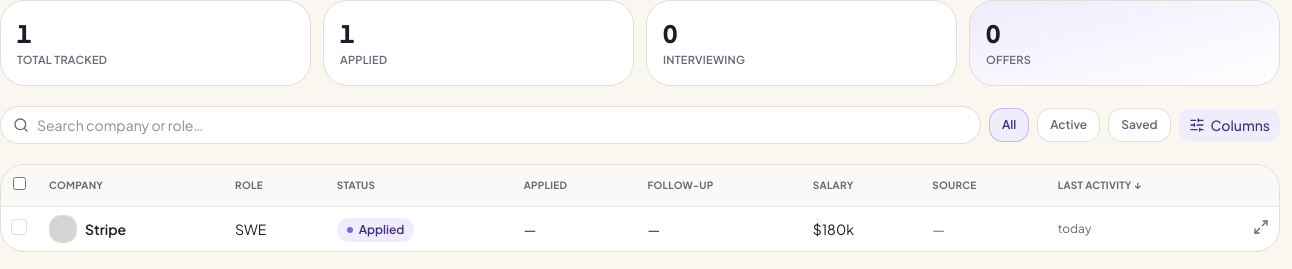
Test: preserves the seed character when typing to start an edit (does not clobber it)
Click the text "$180k": (833, 229) [813,220,854,238]
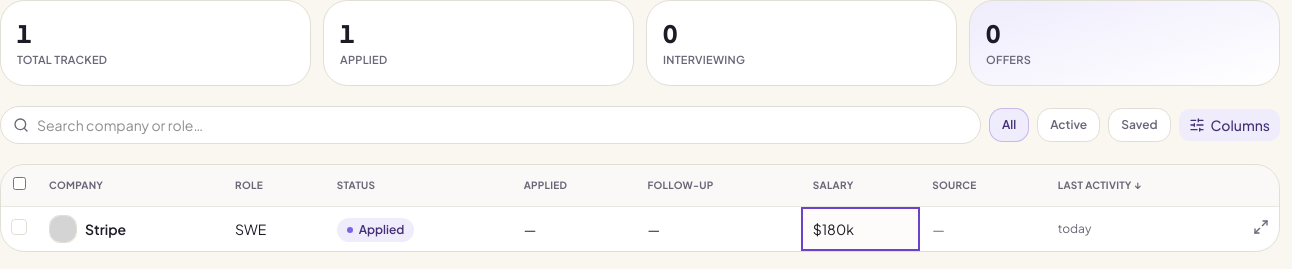
Press X in the text "$180k", box [1,165,1279,251]
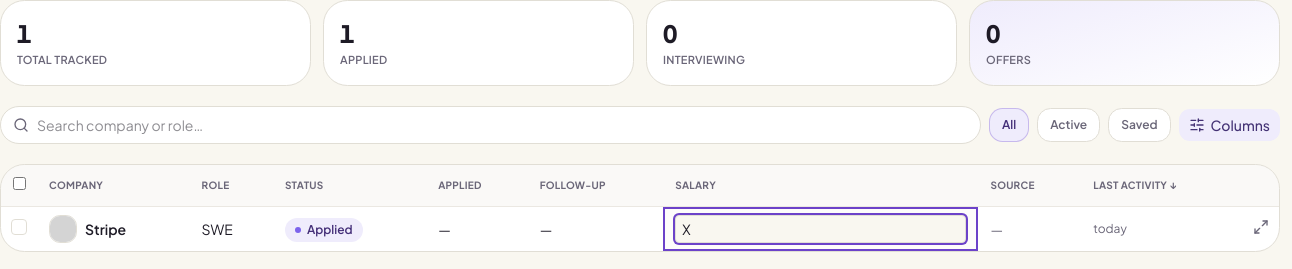
Expected: the 2nd field holds "X"
Replace the text in the 2nd field with "XY": (821, 229) [675,215,966,243]
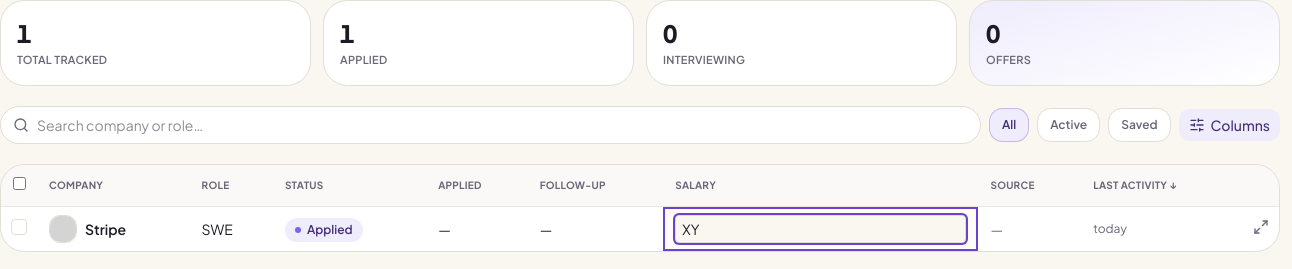
Replace the text in the 2nd field with "XYZ": (821, 229) [675,215,966,243]
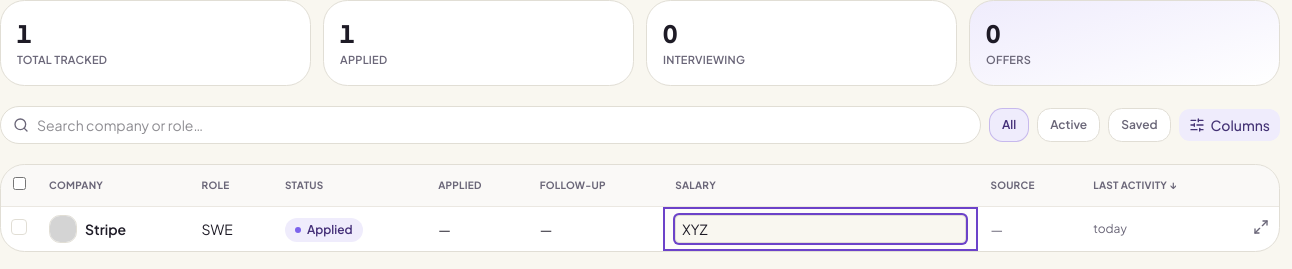
Press Enter in the 2nd field, box [675,215,966,243]
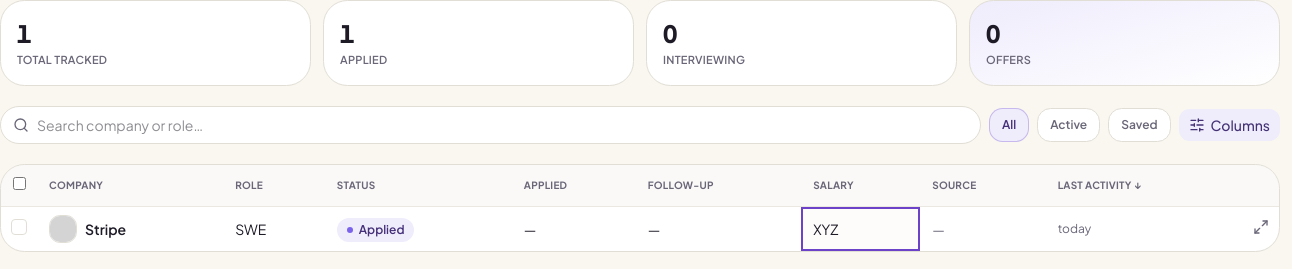
Expected: the text "XYZ" is shown, [813,220,838,238]
